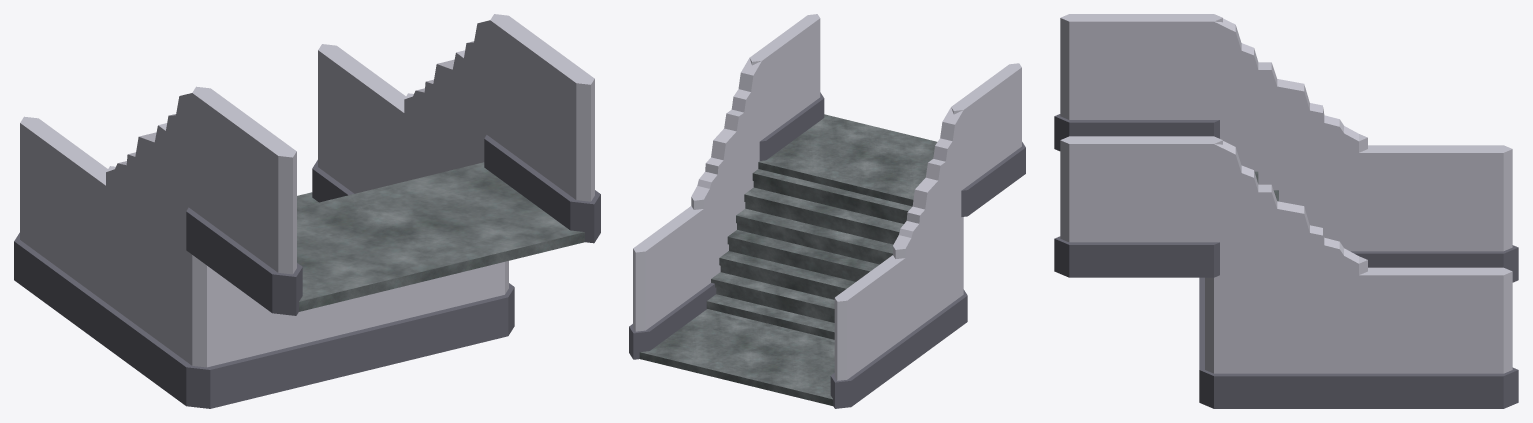
Rendered from hallway_stair_02.fbx.
3 renders of one model, left to right at view 1: azimuth 30°, elevation 25°; view 2: azimuth 150°, elevation 25°; view 3: azimuth 270°, elevation 25°, orthographic. The views are drawn at different scales.
Parts seen in each view (by area): view 1: stairs_01_0, floor_04_1, wall_01_4, wall_01_5, wall_01_3, wall_01_6; view 2: stairs_01_0, floor_04_0, floor_04_1, wall_01_3, wall_01_6, wall_01_4, wall_01_5; view 3: stairs_01_0, wall_01_5, wall_01_6, wall_01_4, wall_01_3.
Part boxes in pixels (x1=…): stairs_01_0: x1=100, y1=15, x2=514, y2=408; floor_04_1: x1=297, y1=162, x2=584, y2=311; wall_01_4: x1=186, y1=86, x2=302, y2=315; wall_01_5: x1=484, y1=14, x2=600, y2=243; wall_01_3: x1=14, y1=116, x2=108, y2=342; wall_01_6: x1=312, y1=44, x2=405, y2=202; stairs_01_0: x1=691, y1=56, x2=967, y2=363; floor_04_0: x1=639, y1=310, x2=834, y2=405; floor_04_1: x1=758, y1=114, x2=937, y2=206; wall_01_3: x1=830, y1=255, x2=909, y2=408; wall_01_6: x1=629, y1=206, x2=707, y2=359; wall_01_4: x1=951, y1=63, x2=1025, y2=216; wall_01_5: x1=749, y1=14, x2=824, y2=160; stairs_01_0: x1=1199, y1=14, x2=1367, y2=408; wall_01_5: x1=1054, y1=136, x2=1222, y2=277; wall_01_6: x1=1359, y1=267, x2=1518, y2=408; wall_01_4: x1=1054, y1=14, x2=1222, y2=151; wall_01_3: x1=1359, y1=145, x2=1518, y2=282.
Bounding box in the file's own units: 22.05 × 20 × 32.05.
